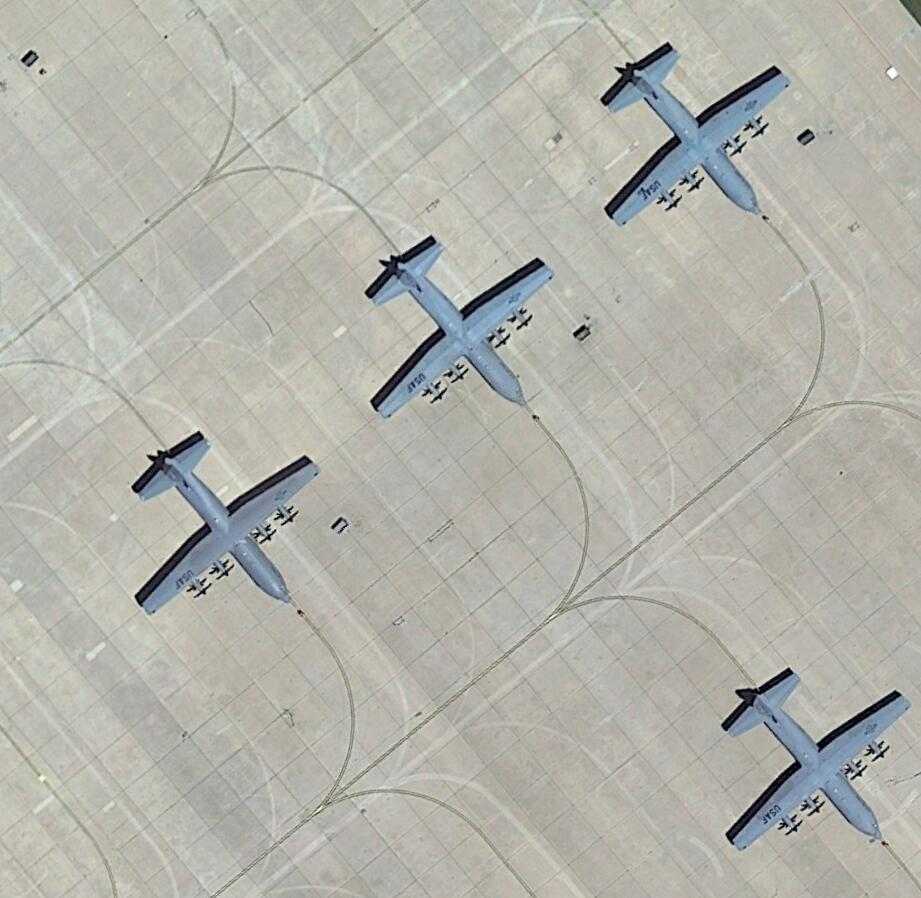A2: (126, 426, 326, 618), (595, 36, 794, 228), (363, 231, 559, 424), (717, 663, 917, 851)
